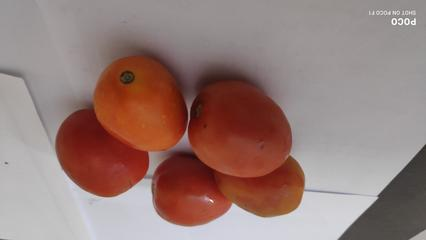tomato: (192, 79, 294, 174), (92, 53, 186, 149), (51, 111, 156, 194)
